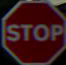Stop: (4, 4, 63, 55)
